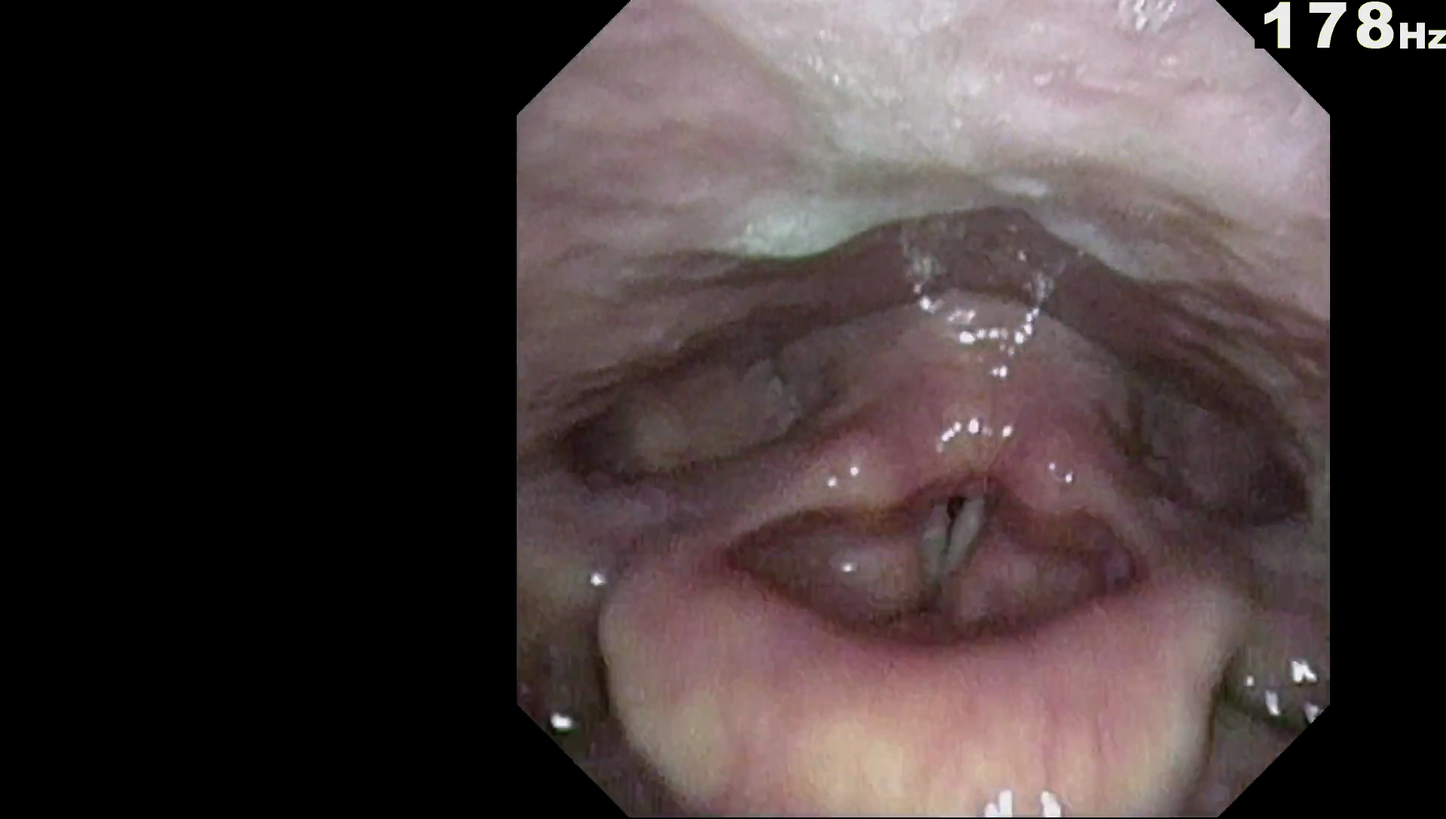trachea: (900, 459, 998, 622)
